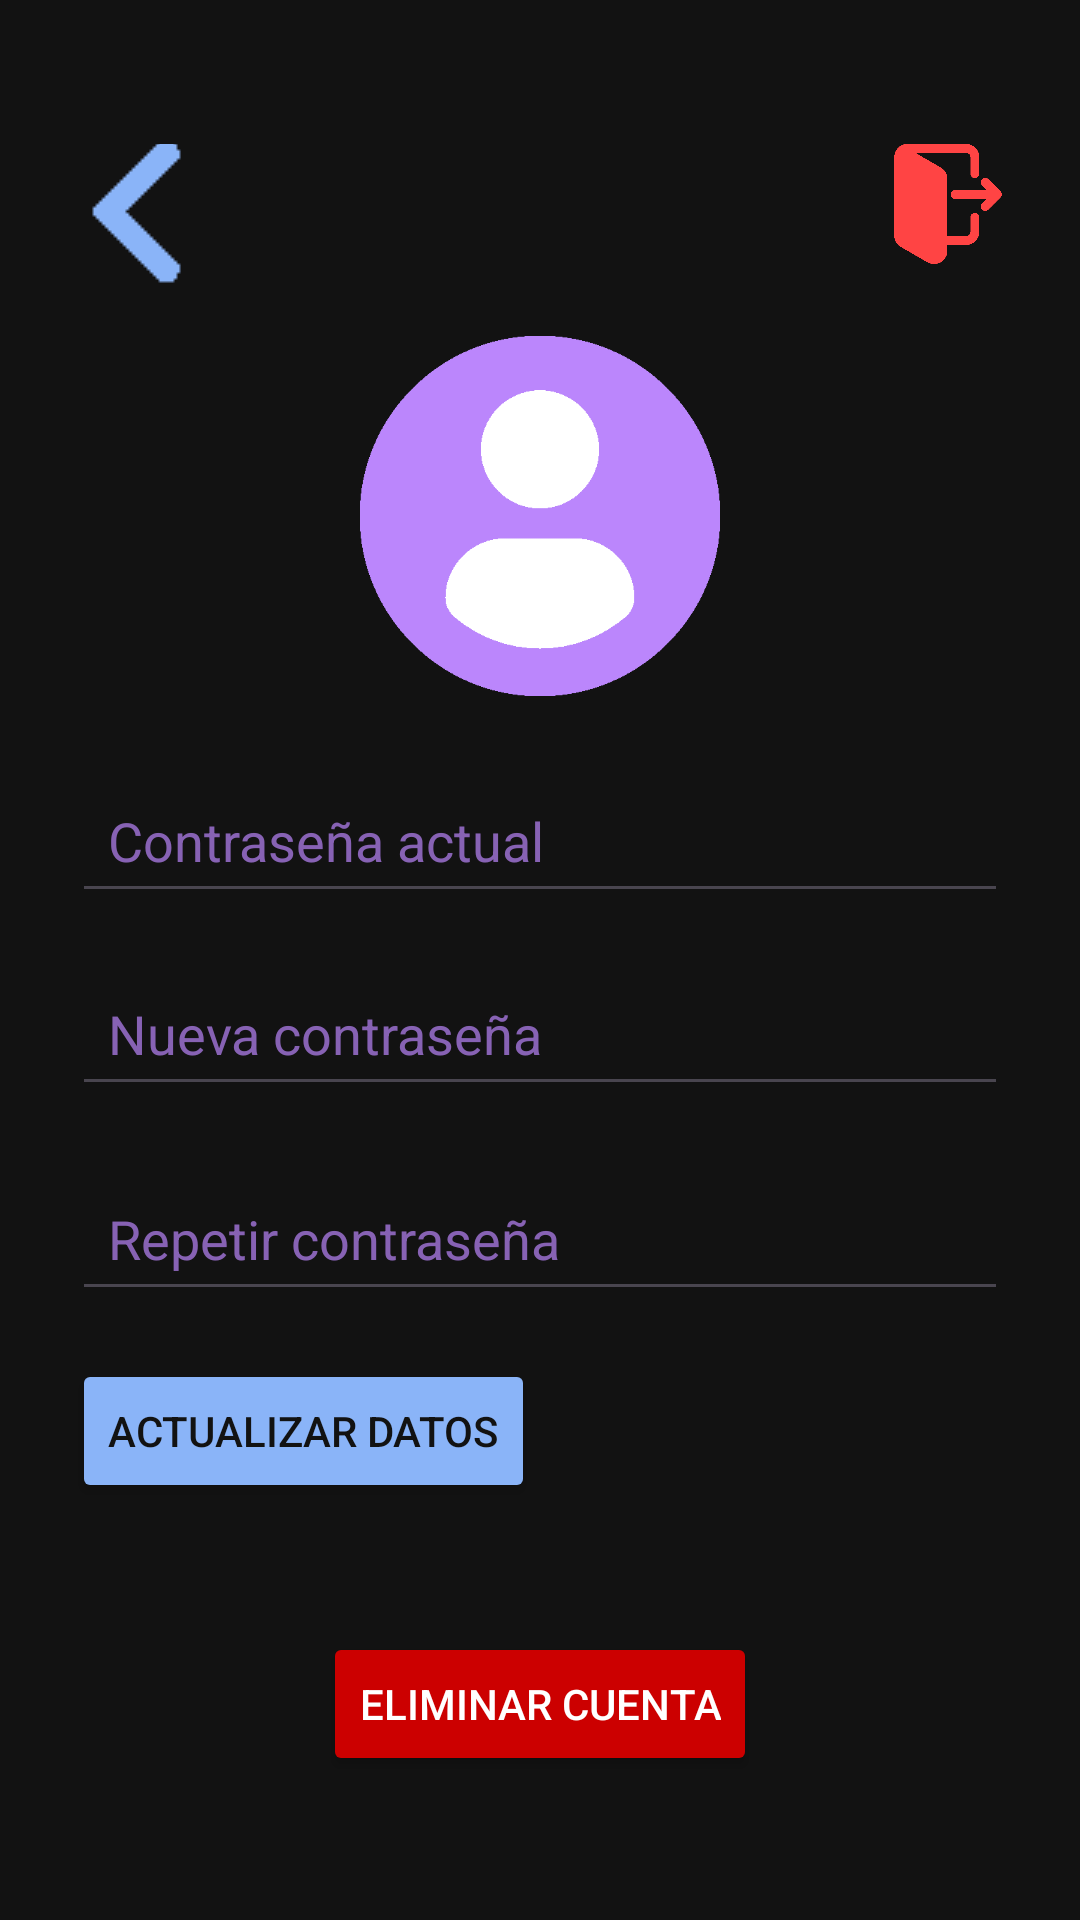

Where icons sit on this 1080px×1920px app screen, as (x1, y1, x2, y2):
Atras: (92, 144, 181, 283)
Foto de perfil: (360, 336, 720, 696)
